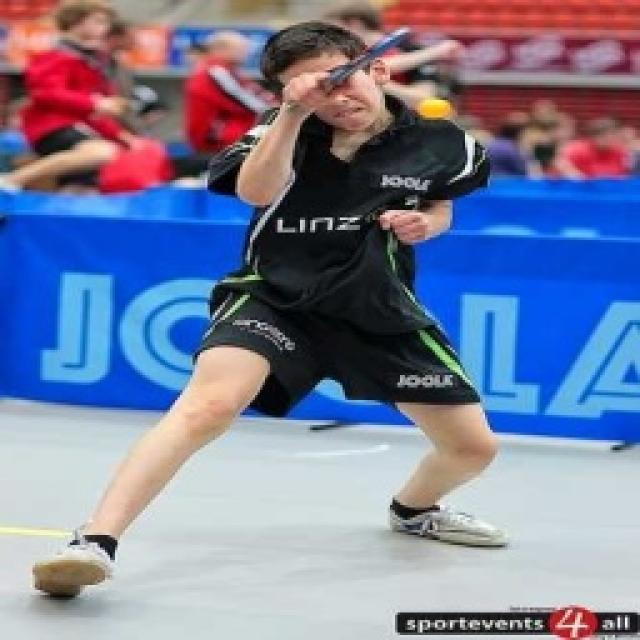oball: (417, 97, 450, 121)
